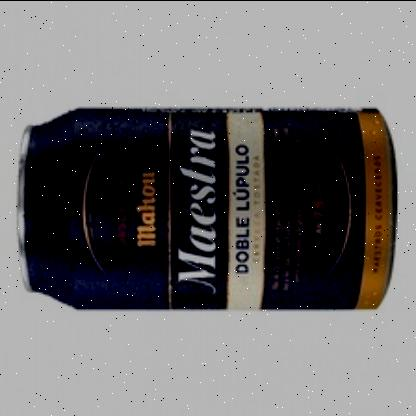Can: (19, 107, 399, 311)
